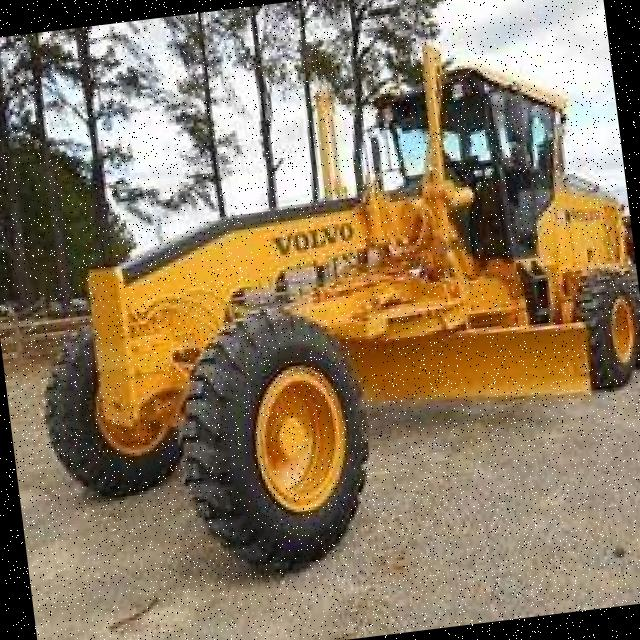Grader: (1, 0, 640, 582)
